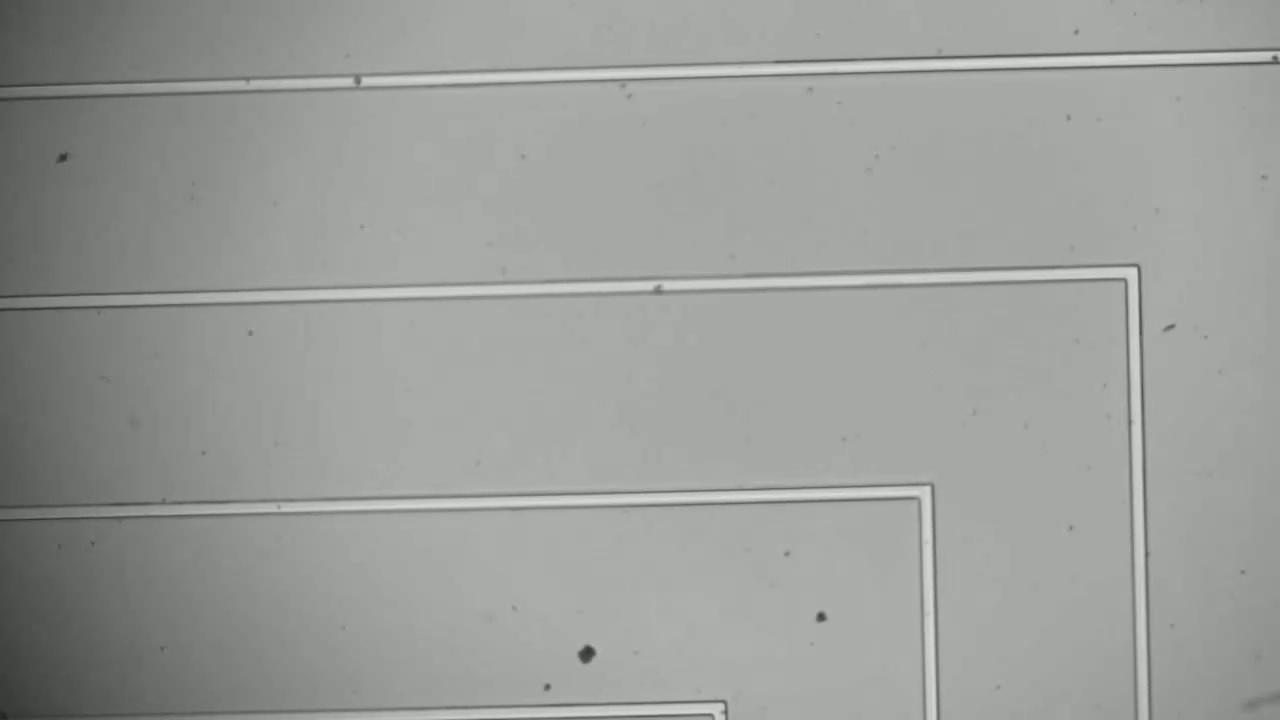stains_enbedded: (641, 267, 672, 304), (345, 67, 366, 98)
